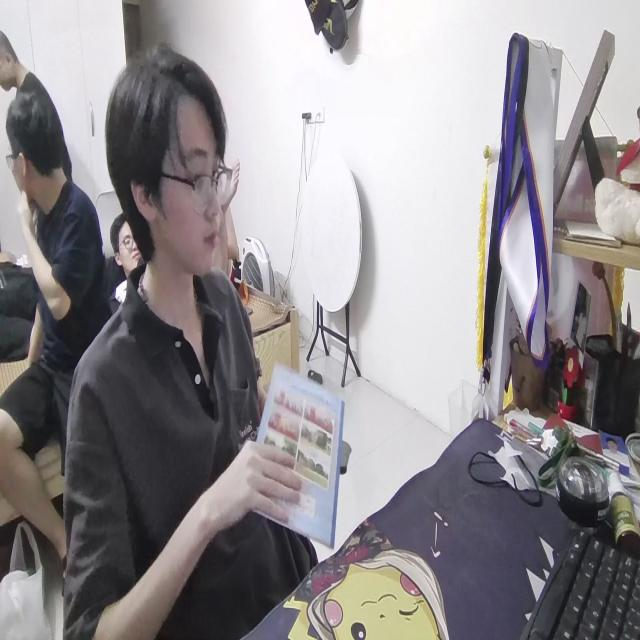book: (249, 358, 344, 545)
extra_person: (2, 96, 116, 561), (2, 40, 65, 150), (111, 222, 147, 302)
student: (64, 62, 316, 640)
